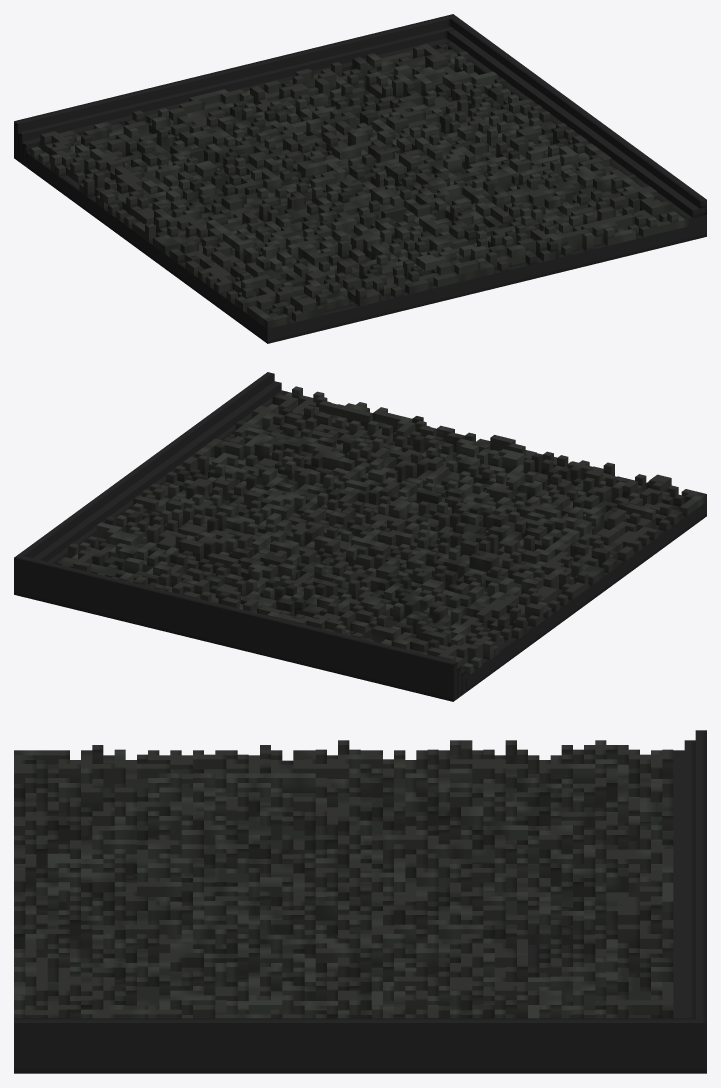
Rendered from DarkFloorLeftEdge&TopEd.fbx.
3 renders of one model, top to bottom at view 1: azimuth 30°, elevation 25°; view 2: azimuth 150°, elevation 25°; view 3: azimuth 270°, elevation 25°, orthographic. The views are drawn at different scales.
Parts seen in each view (by area): view 1: Model; view 2: Model; view 3: Model.
Part boxes in pixels (bbox=[...]): Model: bbox=[14, 14, 706, 343]; Model: bbox=[14, 372, 706, 701]; Model: bbox=[14, 730, 706, 1073].
Size of the model in its own units: 3200 by 258 by 3200.
Materials: 1 (1 with a texture image).
